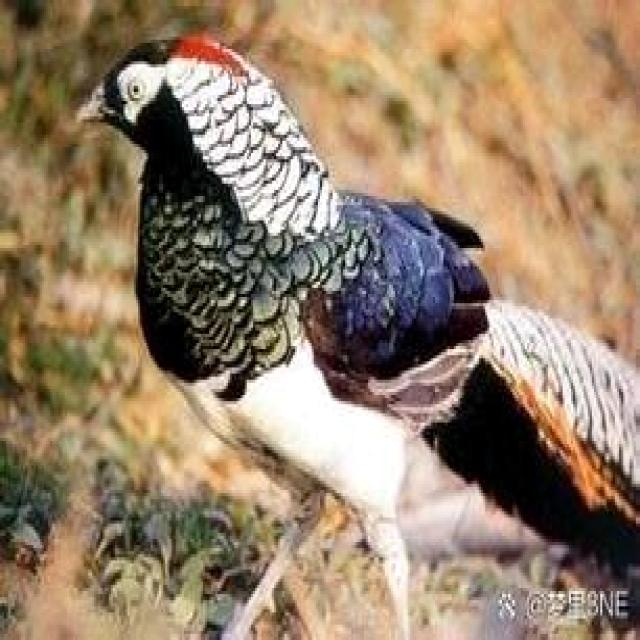Chrysolophus amherstiae: (368, 300, 638, 557)
